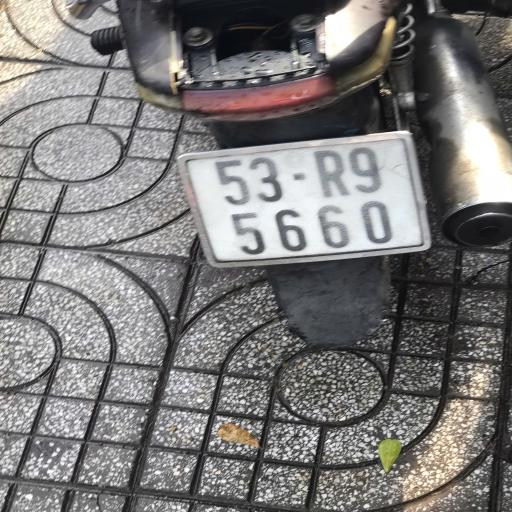0: (352, 197, 409, 248)
3: (245, 150, 289, 208)
5: (222, 211, 276, 266), (208, 149, 251, 210)
6: (315, 203, 358, 256), (274, 205, 310, 260)
9: (348, 144, 394, 198)
R: (308, 150, 354, 204)
